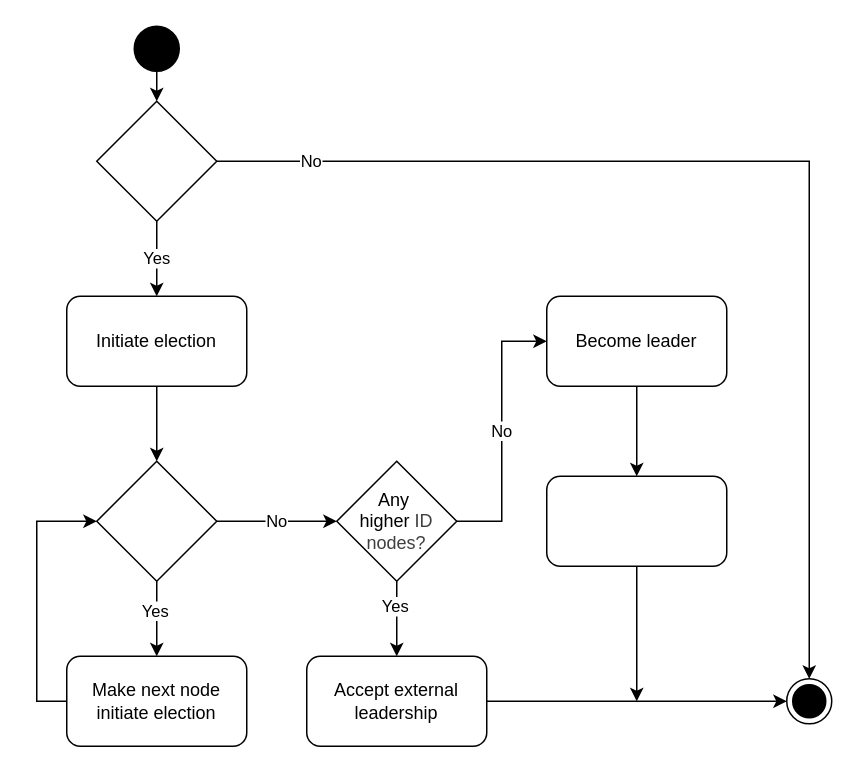
Some shapes in this 858 by 773 pixel diagram are drawn without their labels. The shapes that lost their labels are listed below. From the top down, each one's centre as x and y in pixels, then its label:
At point 156,160: "Leader down?".
At point 156,520: "More higher ID nodes?".
At point 636,520: "Announce leadership".
